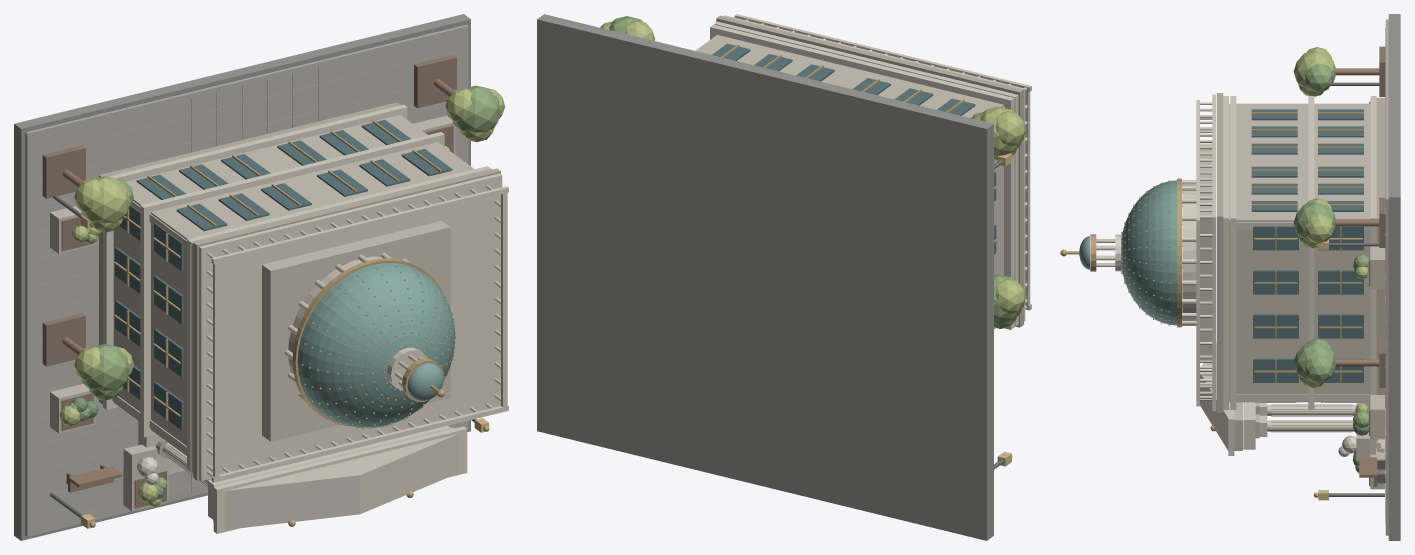
The model's file is classical-library.glb.
3 renders of one model, left to right at view 1: azimuth 30°, elevation 25°; view 2: azimuth 150°, elevation 25°; view 3: azimuth 270°, elevation 25°, orthographic. The views are drawn at different scales.
Visible parts, largest first — view 1: Paved_plaza_0001, Upper_roof_trim_0041, Patinated_copper_dome_0065, Library_main_0034, Dome_square_pedestal_0042, Triangular_pediment_0413, Foundation_0000, Continuous_stone_cornice_0037, Continuous_stone_cornice_0036, Roof_deck_0040, Portico_cornice_0412, Continuous_stone_cornice_0038 (+44 smaller); view 2: Foundation_0000, Library_main_0034, Continuous_stone_cornice_0038, Roof_deck_0040, Continuous_stone_cornice_0039, Balustrade_rail_0874, Balustrade_rail_0875, Upper_roof_trim_0041, Tree_canopy_0935, Tree_canopy_0923, Tree_canopy_0921; view 3: Library_main_0034, Foundation_0000, Patinated_copper_dome_0065, Roof_deck_0040, Continuous_stone_cornice_0038, Dome_square_pedestal_0042, Paved_plaza_0001, Basement_course_0035, Continuous_stone_cornice_0039, Continuous_stone_cornice_0036, Upper_roof_trim_0041, Continuous_stone_cornice_0037 (+37 smaller).
Boxes of the visible parts, bbox=[...] form: Paved_plaza_0001: bbox=[25, 24, 468, 536]; Upper_roof_trim_0041: bbox=[199, 173, 502, 480]; Patinated_copper_dome_0065: bbox=[297, 263, 455, 427]; Library_main_0034: bbox=[113, 115, 474, 455]; Dome_square_pedestal_0042: bbox=[262, 221, 450, 441]; Triangular_pediment_0413: bbox=[225, 434, 459, 529]; Foundation_0000: bbox=[14, 14, 470, 540]; Continuous_stone_cornice_0037: bbox=[140, 132, 444, 437]; Continuous_stone_cornice_0036: bbox=[103, 104, 407, 409]; Roof_deck_0040: bbox=[193, 168, 500, 480]; Portico_cornice_0412: bbox=[213, 426, 467, 533]; Continuous_stone_cornice_0038: bbox=[187, 166, 491, 471]; Foundation_0000: bbox=[537, 14, 993, 540]; Library_main_0034: bbox=[695, 35, 1003, 329]; Continuous_stone_cornice_0038: bbox=[710, 24, 1014, 329]; Roof_deck_0040: bbox=[716, 15, 1023, 327]; Continuous_stone_cornice_0039: bbox=[714, 21, 1018, 326]; Balustrade_rail_0874: bbox=[734, 14, 1031, 92]; Balustrade_rail_0875: bbox=[1025, 91, 1030, 305]; Upper_roof_trim_0041: bbox=[723, 15, 1025, 321]; Tree_canopy_0935: bbox=[995, 279, 1026, 313]; Tree_canopy_0923: bbox=[995, 111, 1026, 145]; Tree_canopy_0921: bbox=[980, 106, 1021, 156]; Library_main_0034: bbox=[1229, 103, 1370, 402]; Foundation_0000: bbox=[1388, 14, 1400, 540]; Patinated_copper_dome_0065: bbox=[1121, 180, 1176, 325]; Roof_deck_0040: bbox=[1217, 93, 1223, 412]; Continuous_stone_cornice_0038: bbox=[1230, 96, 1236, 409]; Dome_square_pedestal_0042: bbox=[1200, 145, 1212, 360]; Paved_plaza_0001: bbox=[1385, 19, 1388, 535]; Basement_course_0035: bbox=[1376, 97, 1385, 407]; Continuous_stone_cornice_0039: bbox=[1223, 96, 1228, 409]; Continuous_stone_cornice_0036: bbox=[1370, 96, 1376, 394]; Upper_roof_trim_0041: bbox=[1212, 94, 1216, 411]; Continuous_stone_cornice_0037: bbox=[1308, 96, 1314, 409].
Bounding box in the file's own units: 16 × 14 × 12.56.
